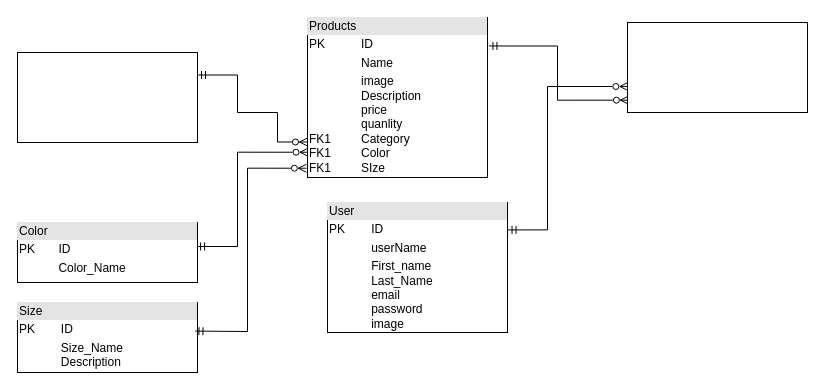
This 825x390 diagram has some shape labels left out. The centre of each missing label's shape, as x and y in pixels:
Basket PK ID Created FK1 FK1 User Product: pixel 717 67
Category PK ID Name Description: pixel 107 97
